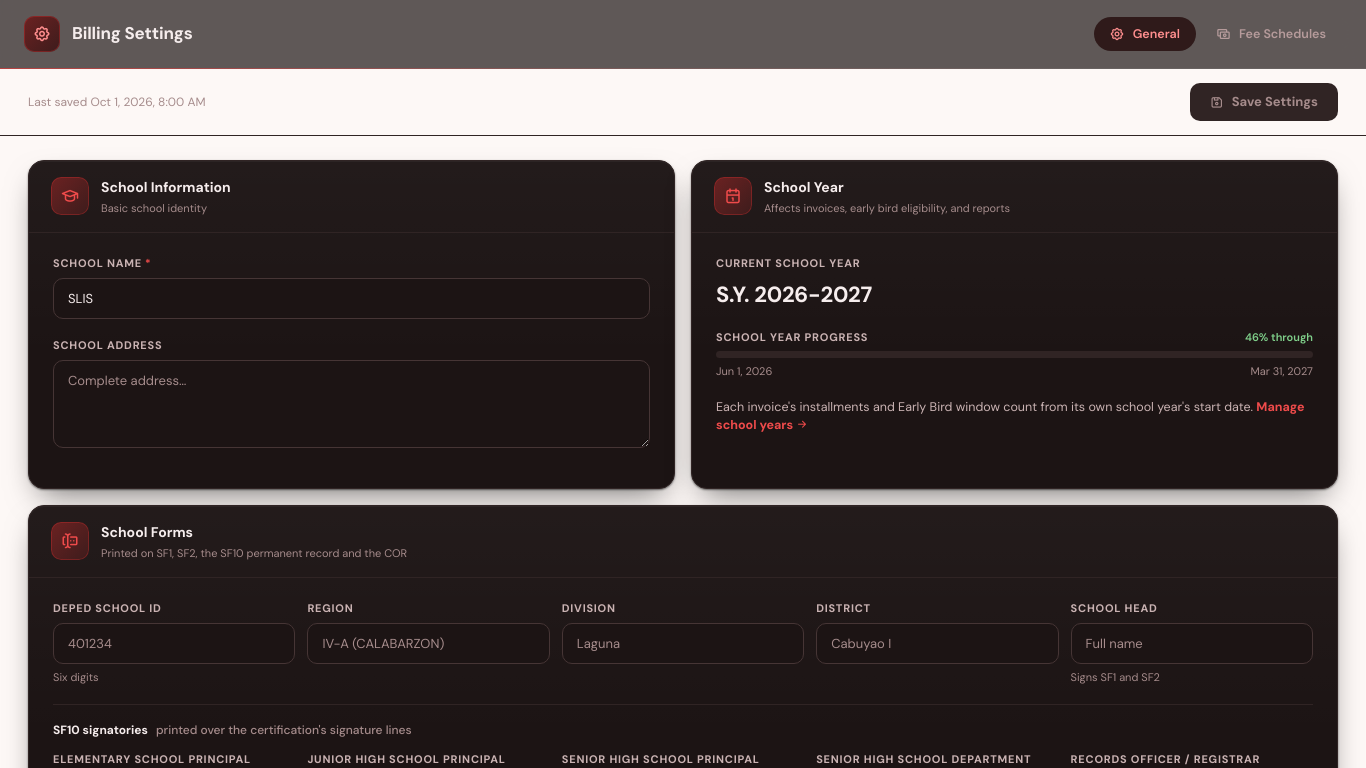
Test case: Billing Settings in dark mode › renders the General tab's cards, the year's progress and the discount rates
Expected: the text "School Information" is shown, [101,176,231,198]
Expected: the text "S.Y. 2026-2027" is shown, [716,280,872,308]
An unsaved change lights the save button and its chip.
Clear the field showing "SLIS". click: (352, 298)
box: [53,278,650,319]
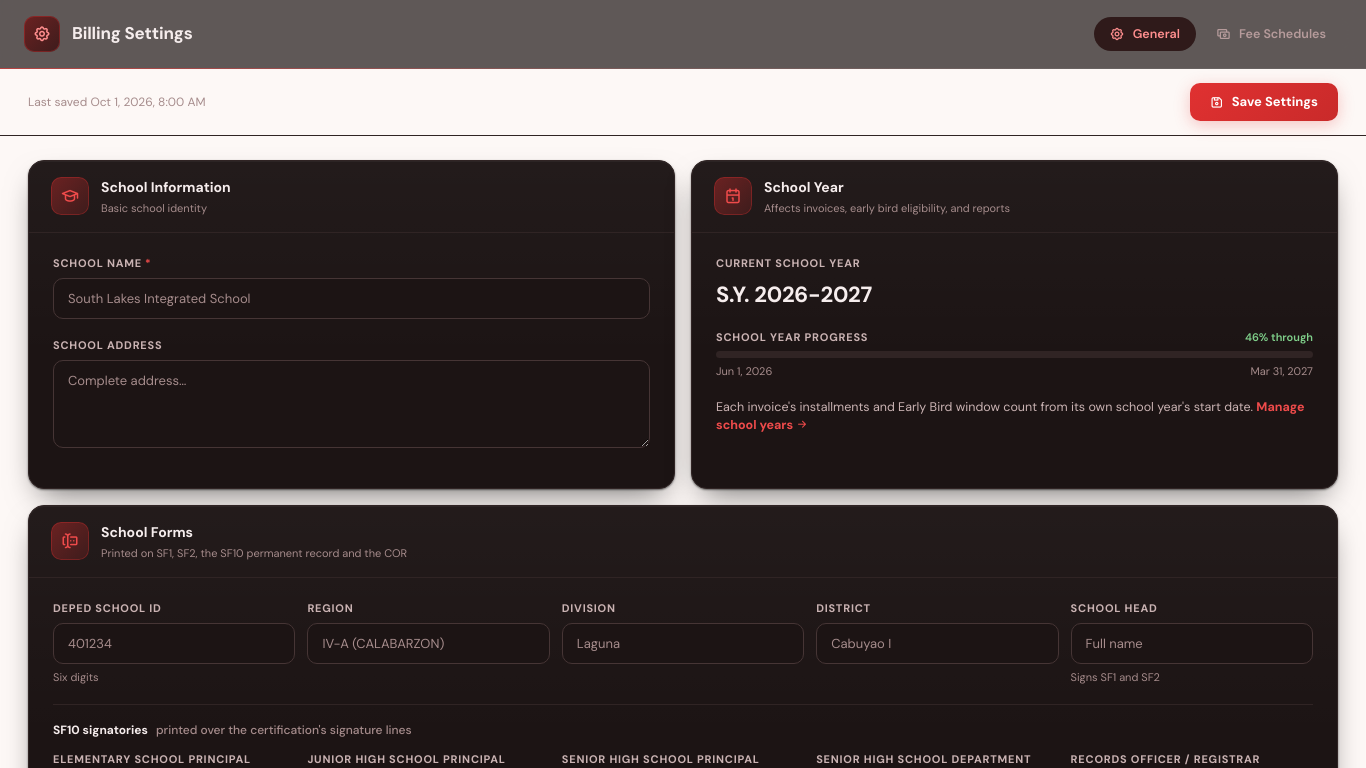
Click the button "Save Settings". click: (1264, 102)
box: [1190,83,1338,120]
(page scrolled)
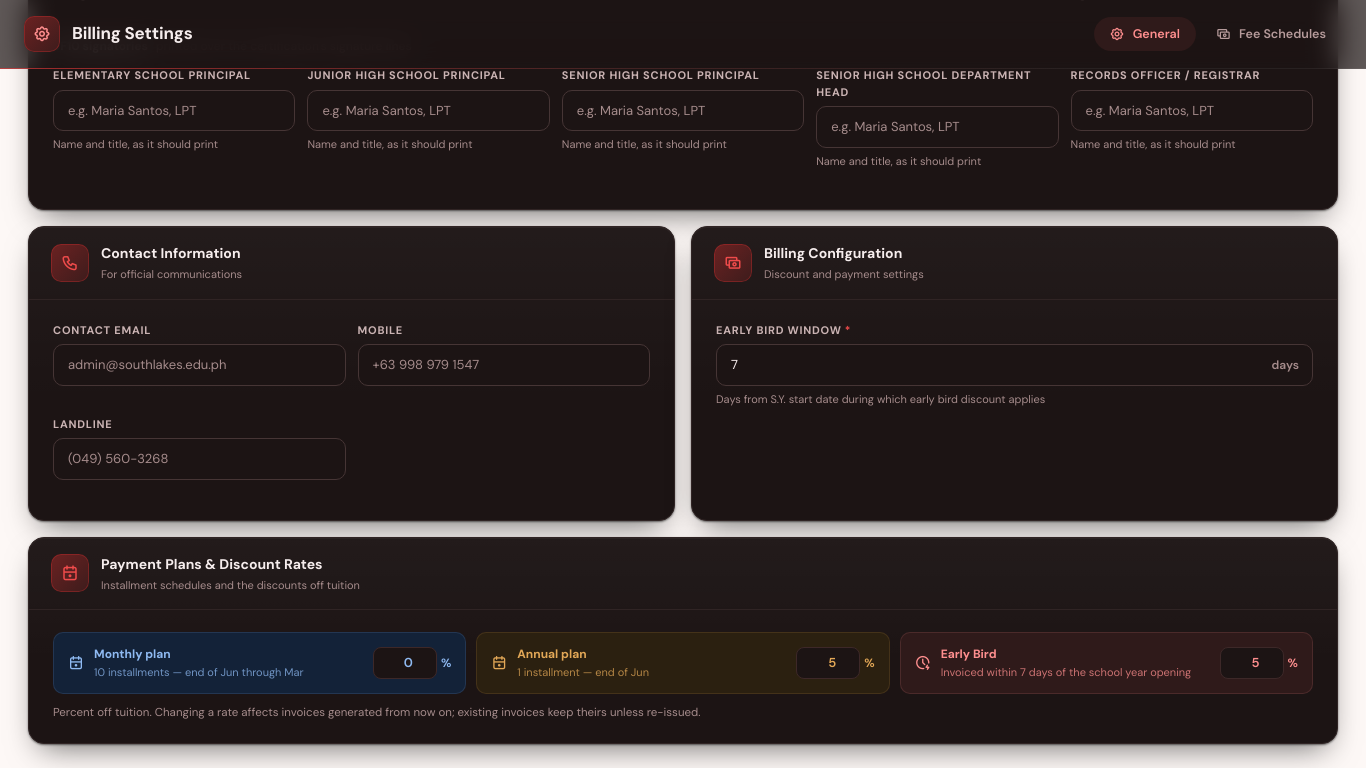
Replace the text in the number field named "Annual plan discount" with "150". click: (828, 663)
box: [796,647,860,678]
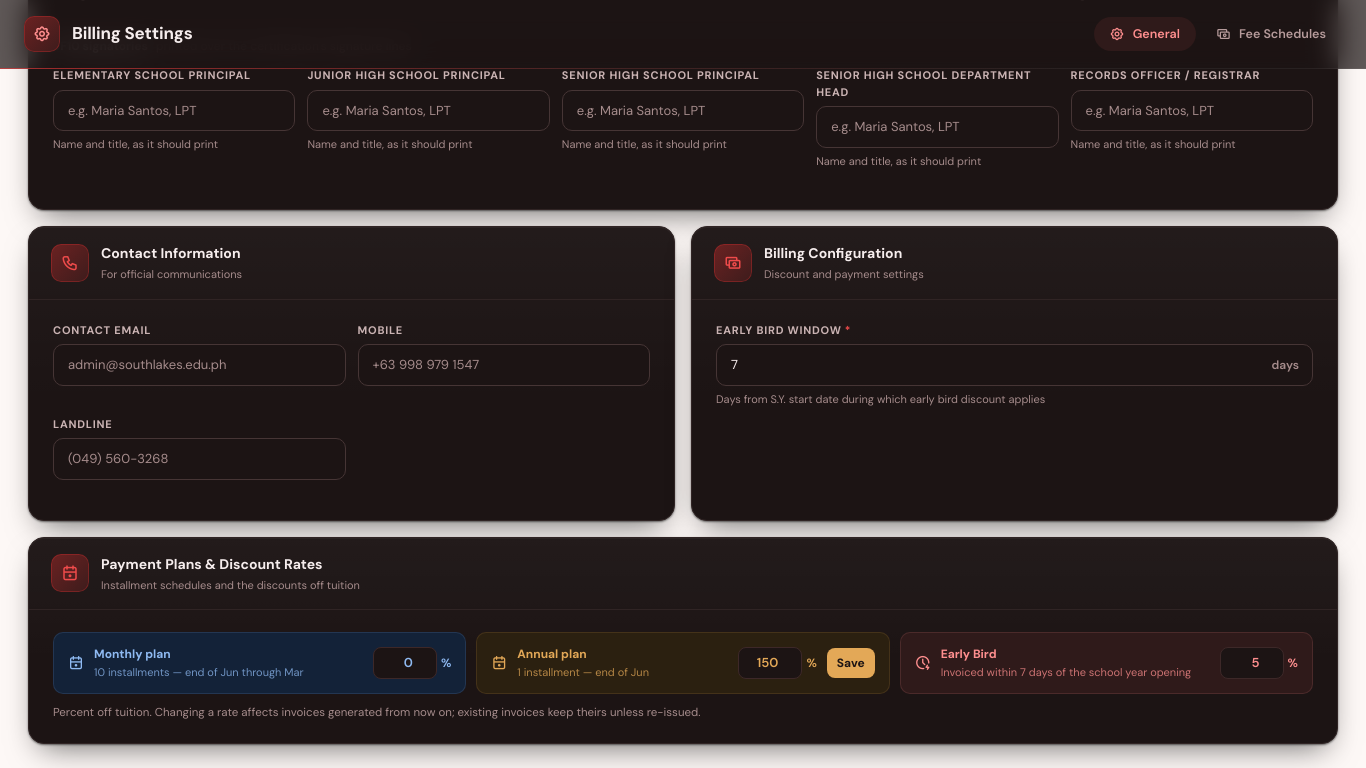
Click the button "Save". click: (851, 663)
box: [827,648,875,678]
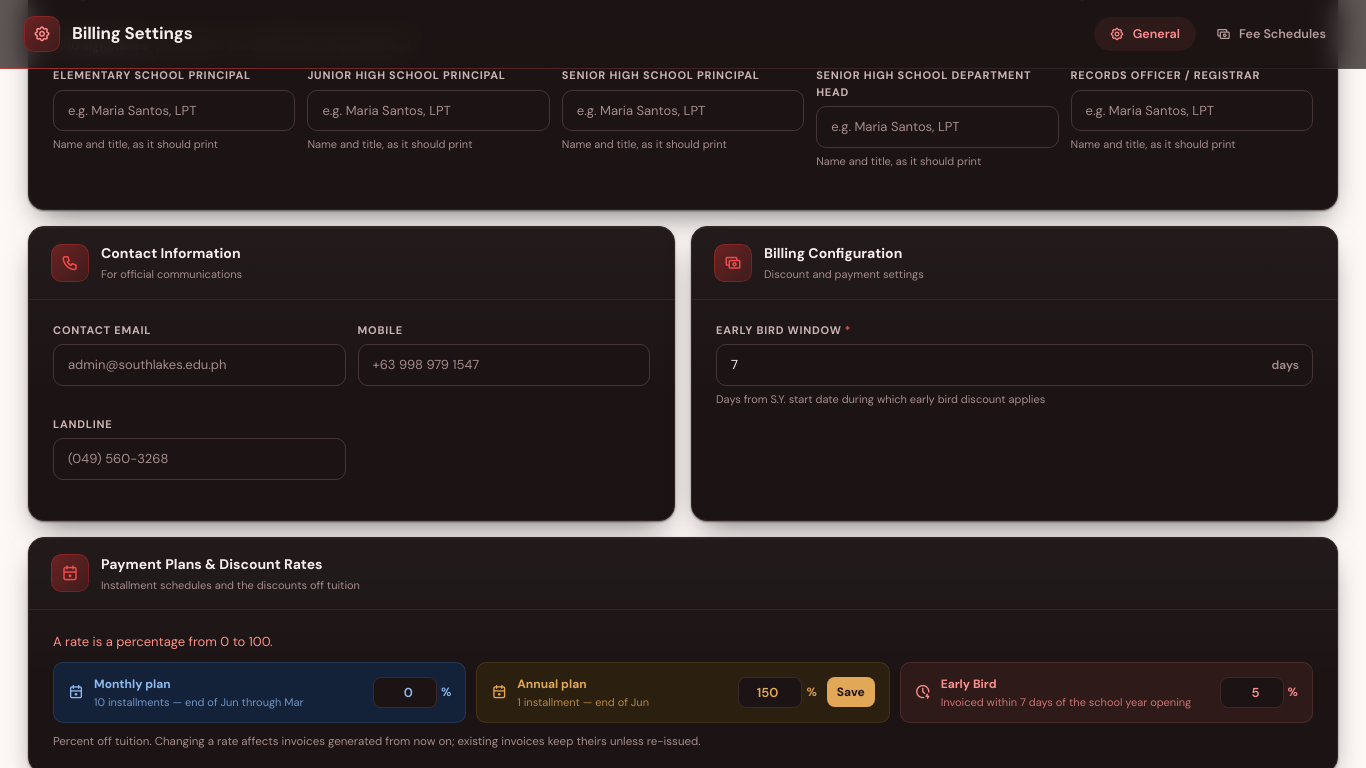
Expected: the text "A rate is a percentage from 0 to 100." is shown, [53,633,273,650]
